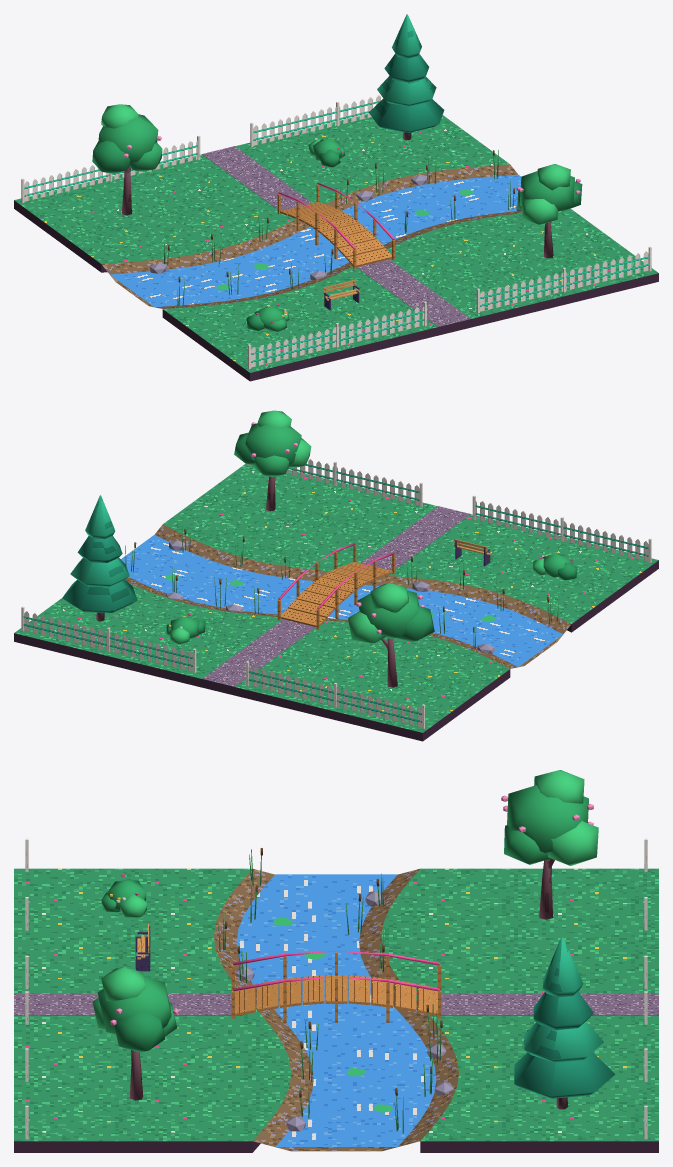
File: Creek Fill.fbx
The picture shows the model from 3 angles, top to bottom: view 1: azimuth 30°, elevation 25°; view 2: azimuth 150°, elevation 25°; view 3: azimuth 270°, elevation 25°; orthographic projection. The views are drawn at different scales.
Parts seen in each view (by area): view 1: Creek Fill ground, Creek Fill props mesh; view 2: Creek Fill ground, Creek Fill props mesh; view 3: Creek Fill ground, Creek Fill props mesh.
Part boxes in pixels (bbox=[...]): Creek Fill ground: bbox=[14, 114, 658, 381]; Creek Fill props mesh: bbox=[21, 14, 651, 368]; Creek Fill ground: bbox=[14, 463, 658, 741]; Creek Fill props mesh: bbox=[21, 410, 651, 728]; Creek Fill ground: bbox=[14, 868, 658, 1152]; Creek Fill props mesh: bbox=[14, 770, 658, 1139].
Size of the model in its own units: 20 by 6.25 by 20.
25 materials, 25 textured.
